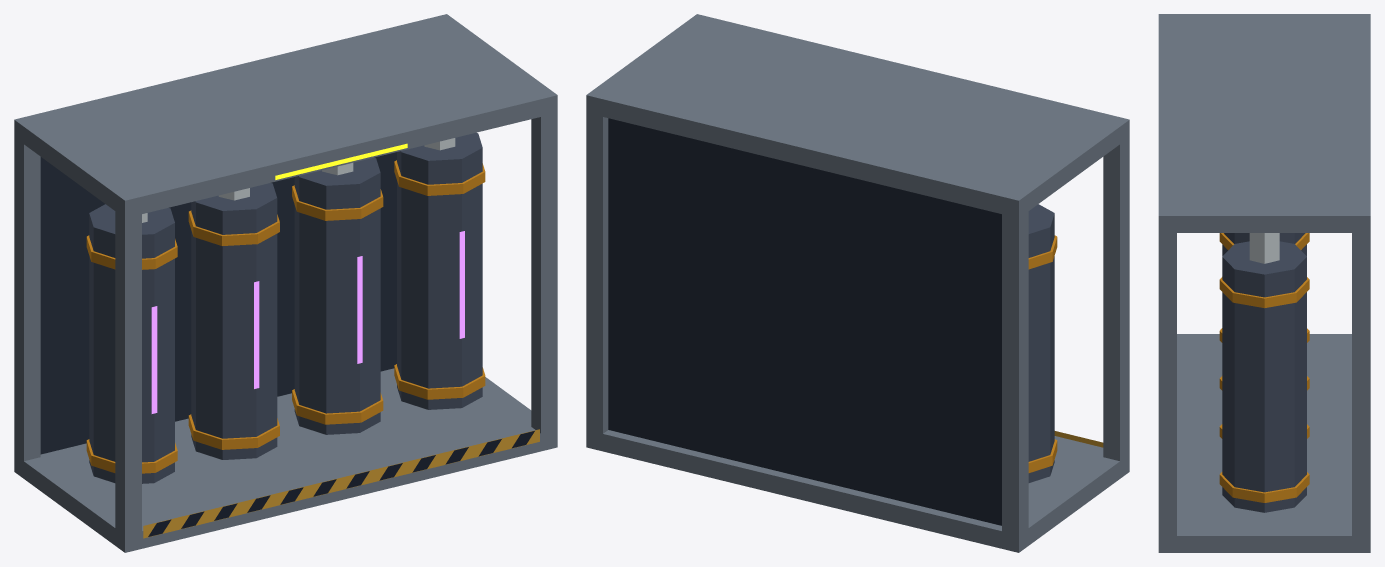
The model's file is fus_capacitor_bank.glb.
The picture shows the model from 3 angles, left to right: view 1: azimuth 30°, elevation 25°; view 2: azimuth 150°, elevation 25°; view 3: azimuth 270°, elevation 25°; orthographic projection. The views are drawn at different scales.
Parts seen in each view (by area): view 1: corner_post, dielectric_can, shield_back, retaining_band, warning_band, charge_window, slash, ceramic_bushing, charge_status; view 2: shield_back, corner_post, dielectric_can, retaining_band; view 3: corner_post, dielectric_can, retaining_band, ceramic_bushing.
Boxes of the visible parts, left/top/right/bottom form: corner_post: left=14, top=14, right=557, bottom=552; dielectric_can: left=89, top=132, right=482, bottom=483; shield_back: left=40, top=152, right=396, bottom=454; retaining_band: left=86, top=160, right=485, bottom=473; warning_band: left=143, top=429, right=539, bottom=538; charge_window: left=151, top=231, right=464, bottom=413; slash: left=148, top=431, right=534, bottom=536; ceramic_bushing: left=142, top=138, right=455, bottom=222; charge_status: left=275, top=143, right=407, bottom=179; shield_back: left=608, top=118, right=1001, bottom=525; corner_post: left=586, top=14, right=1129, bottom=552; dielectric_can: left=1028, top=204, right=1054, bottom=482; retaining_band: left=1028, top=235, right=1057, bottom=472; corner_post: left=1158, top=14, right=1370, bottom=552; dielectric_can: left=1222, top=233, right=1306, bottom=512; retaining_band: left=1219, top=233, right=1309, bottom=502; ceramic_bushing: left=1249, top=233, right=1279, bottom=263.
Bounding box in the file's own units: 3.6 × 2.8 × 1.6.
